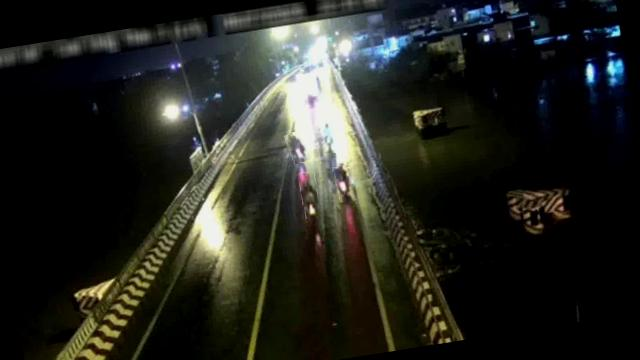Bike: (298, 170, 322, 221), (334, 163, 356, 202), (285, 130, 310, 164), (320, 118, 338, 154)
